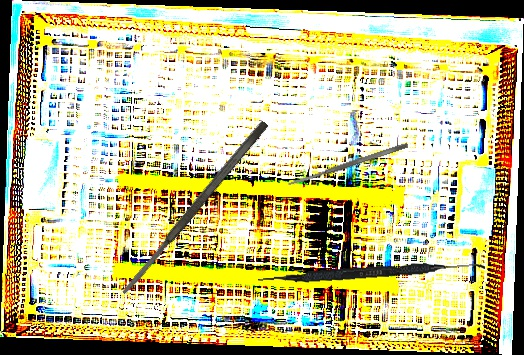Spatula Surgical: (118, 119, 271, 297), (257, 256, 486, 289), (287, 141, 409, 188)
